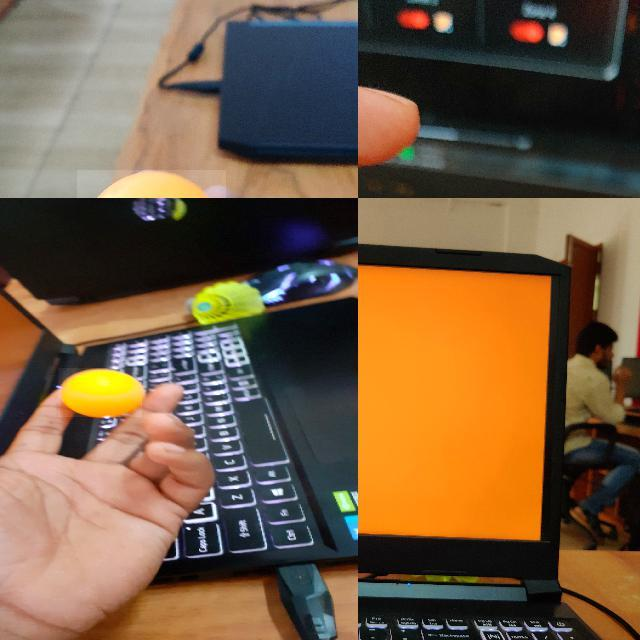ping-pong-ball: (58, 368, 143, 418)
